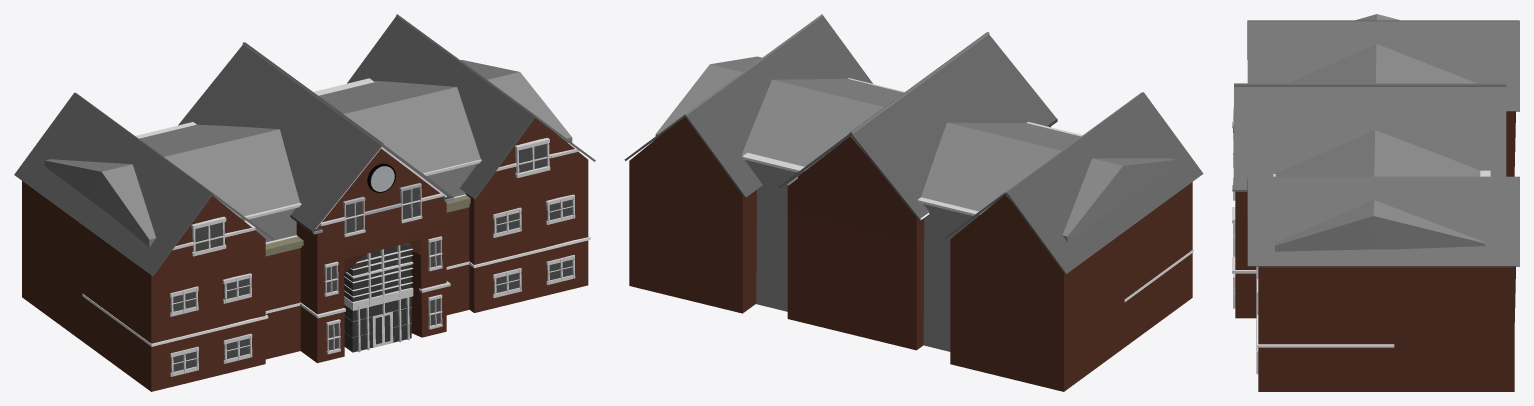
Rendered from RBF.fbx.
3 views of the same model, side by side, from view 1: azimuth 30°, elevation 25°; view 2: azimuth 150°, elevation 25°; view 3: azimuth 270°, elevation 25° (orthographic).
Visible parts, largest first — view 1: Cube; view 2: Cube; view 3: Cube.
Boxes of the visible parts, x1,y1,x2,y2 form: Cube: (14, 14, 595, 391); Cube: (624, 14, 1203, 391); Cube: (1232, 14, 1519, 391).
Size of the model in its own units: 740 by 327 by 420.
